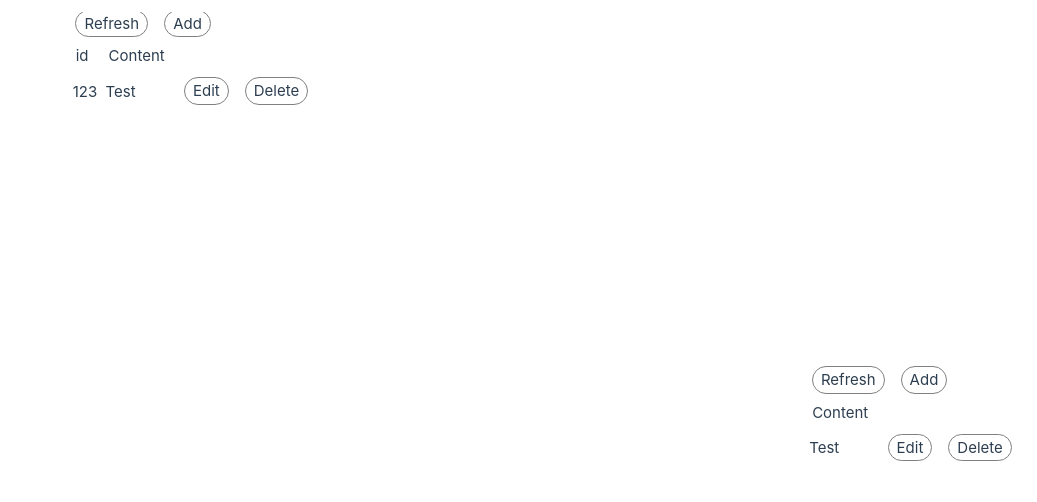
Test: GridComponentTest › press action button › when user click on create, then a form is shown
This screenshot has width=1037, height=502.
Click the 2nd text with class "create_btn": (924, 380) [901,366,947,394]
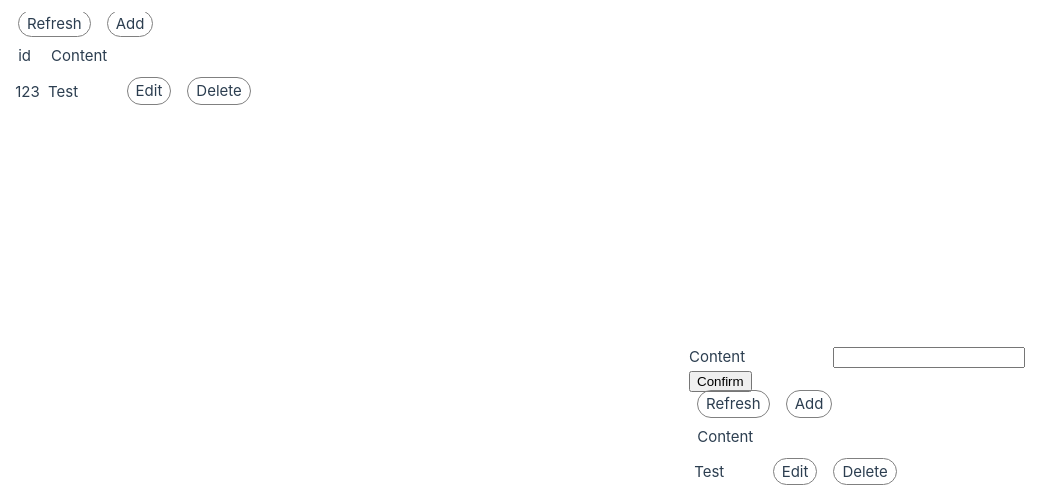
expect the element with class "form_wrapper" showing "Content Confirm" is shown: met, box [689,345,1025,393]
